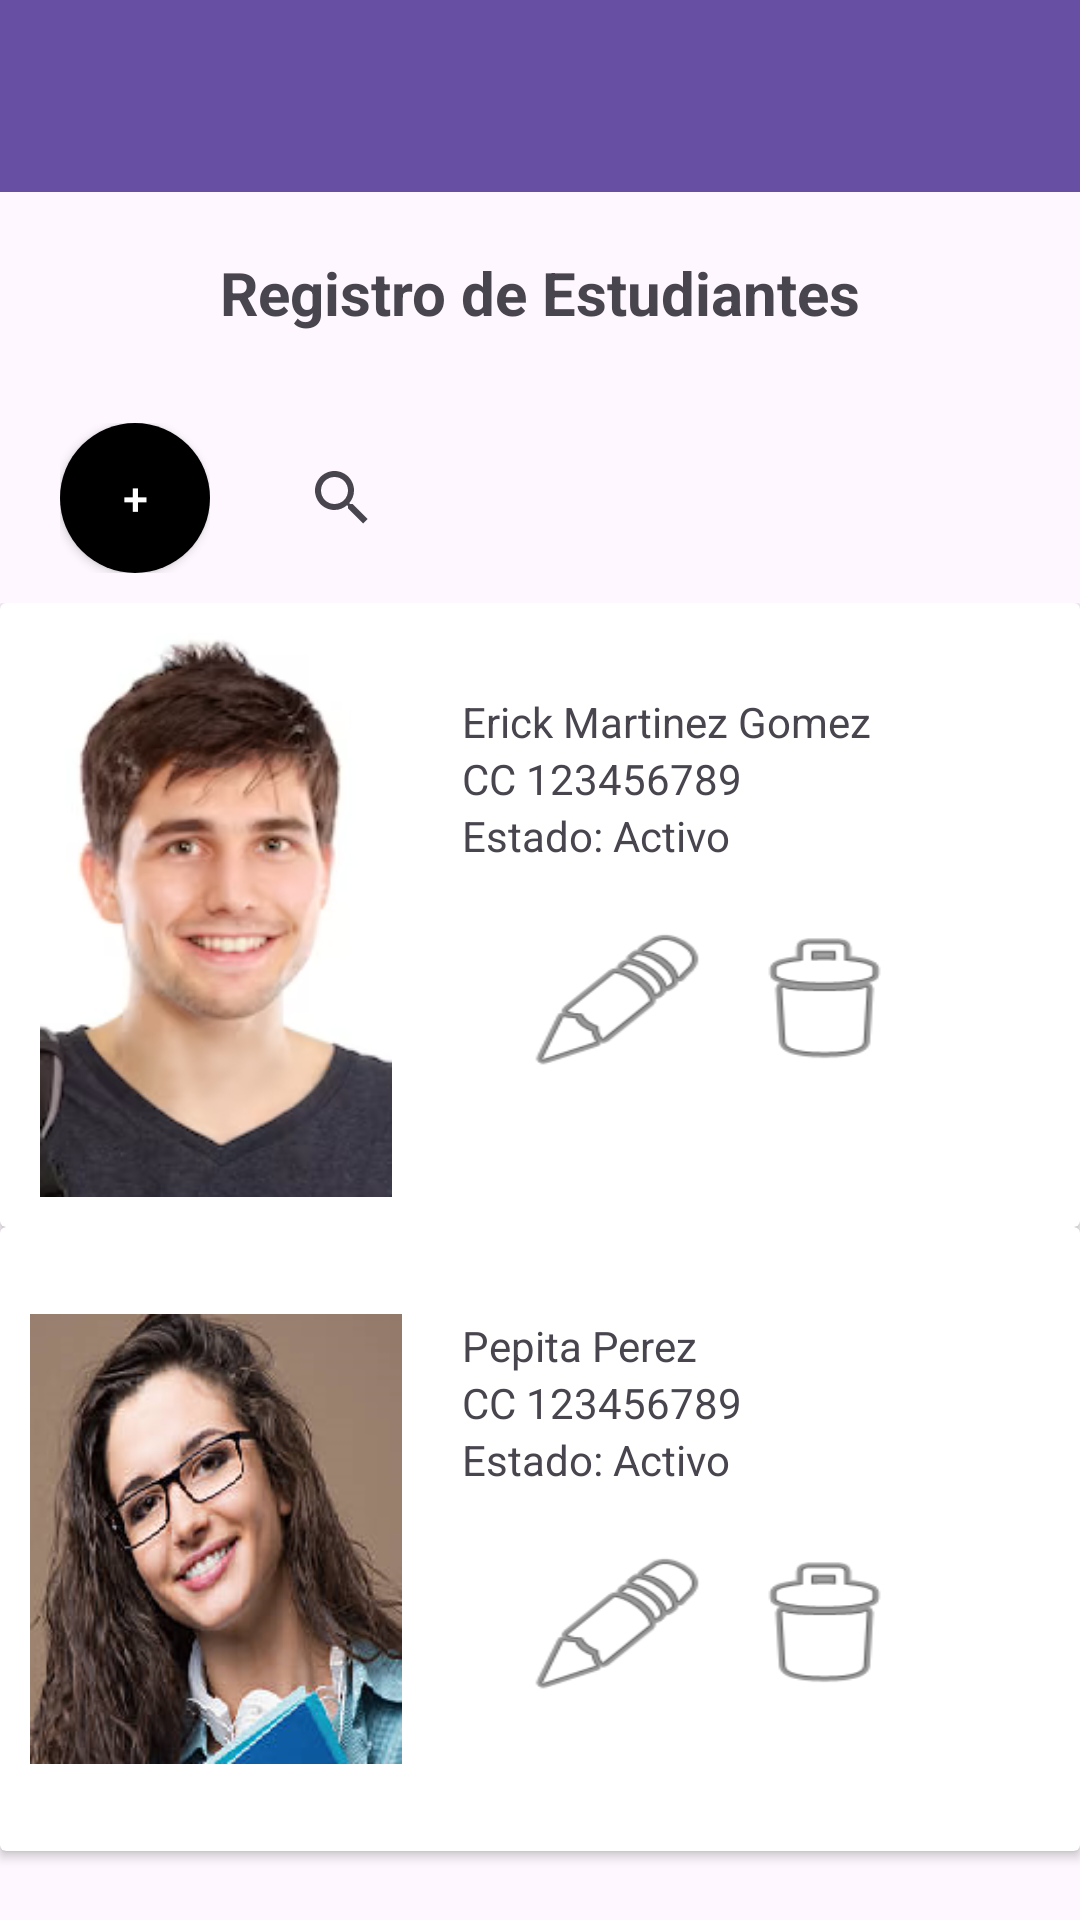

Icon bounding boxes for this 1080 x 1920 phone screenshot, format (x1, y1, x2, y2):
delete: (769, 938, 880, 1058), (769, 1562, 880, 1682)
edit: (536, 935, 699, 1064), (536, 1559, 699, 1688)
